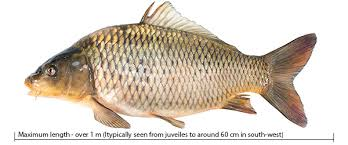carp: (25, 1, 317, 128)
